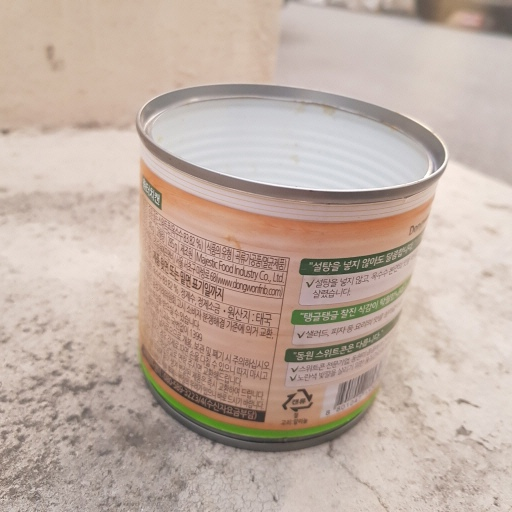Metal_1: (131, 84, 450, 452)
